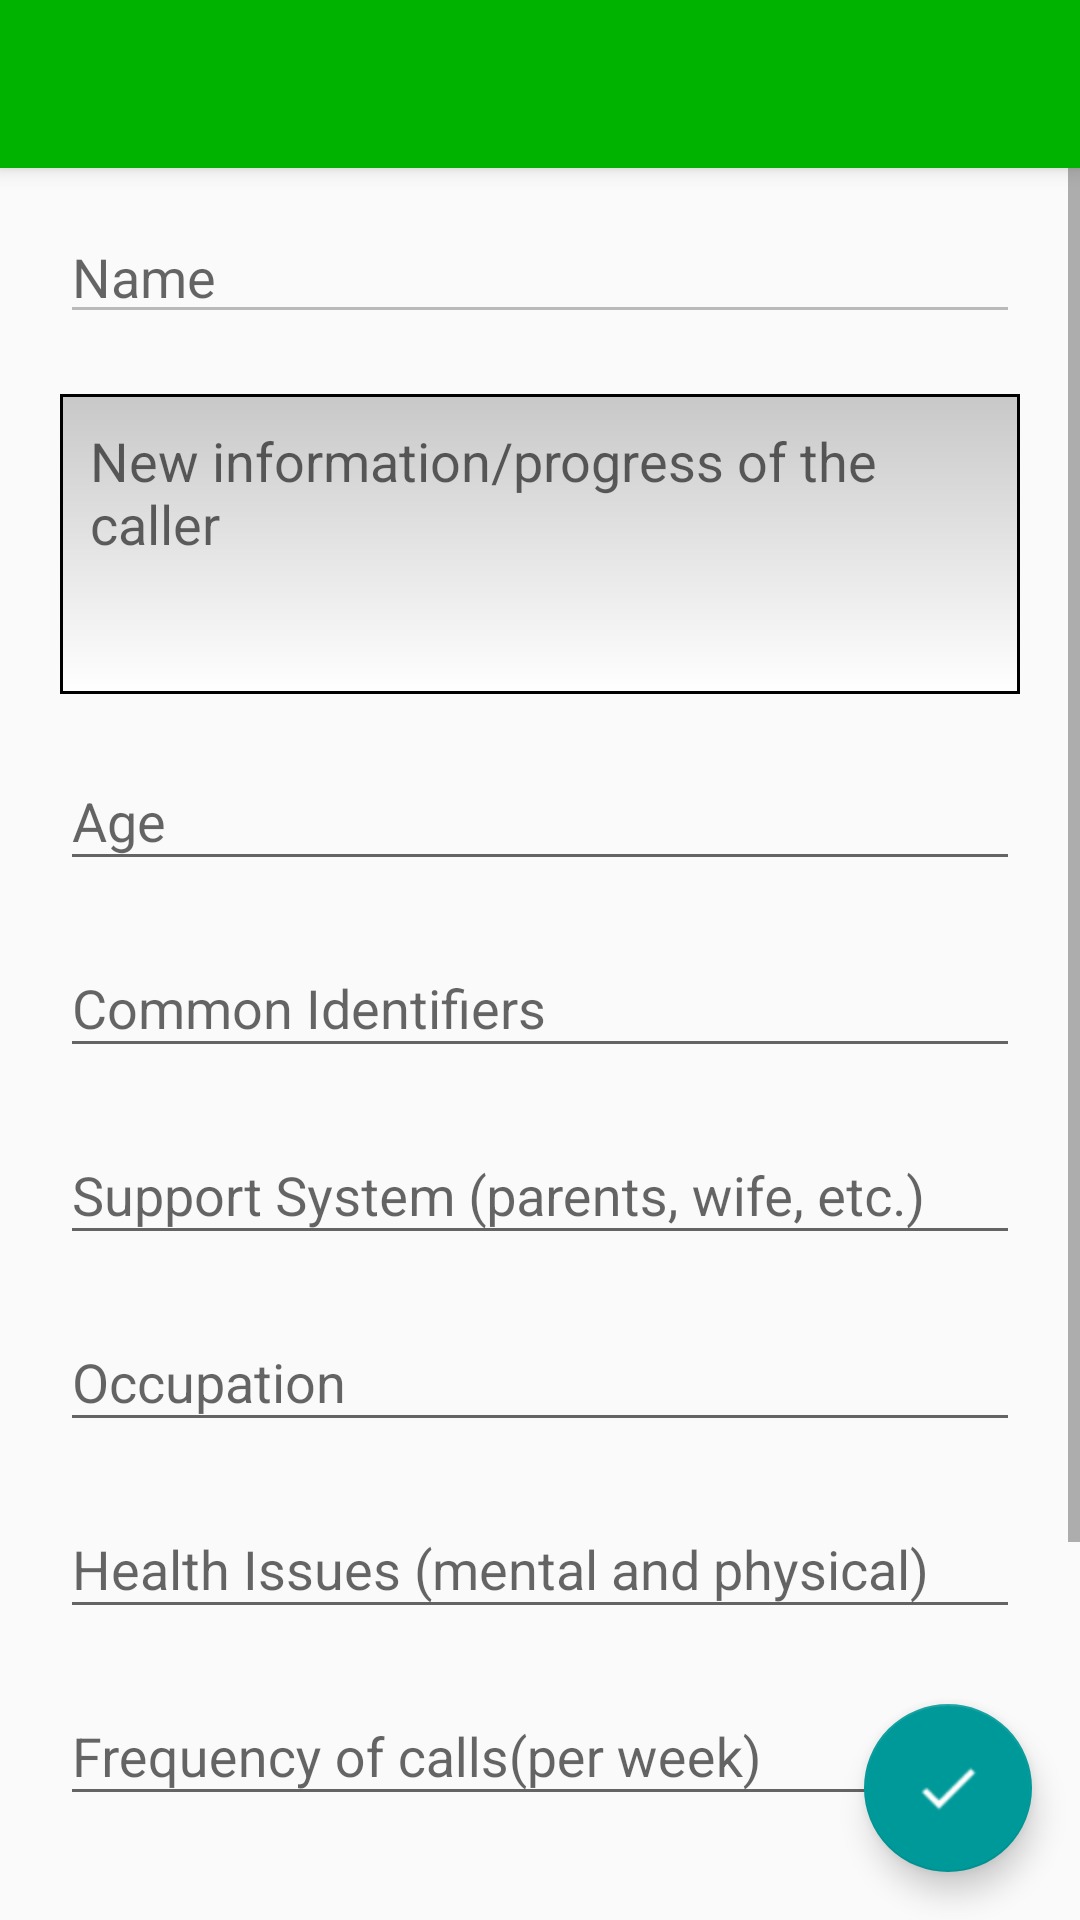

Screen size 1080x1920. Icon name, then its center in pixels as point (x, y):
checkmark: point (948, 1788)
